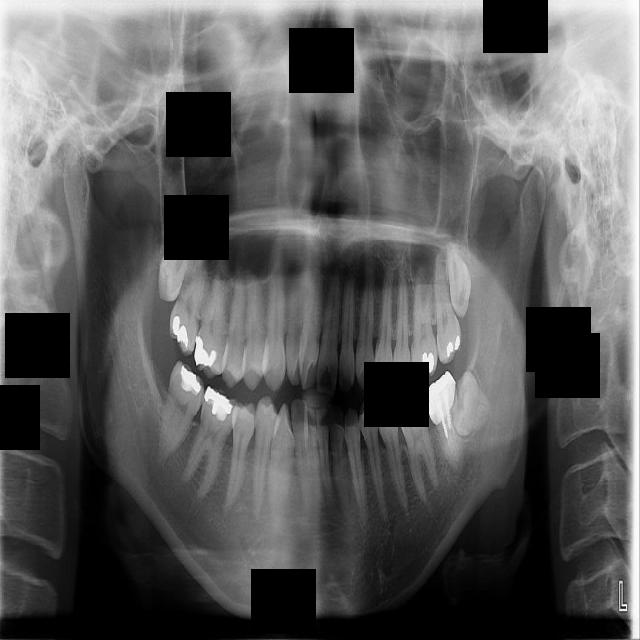3M ESPE Implant: (148, 229, 200, 305)
52: (159, 357, 218, 419), (155, 296, 211, 359), (190, 385, 244, 446), (189, 326, 233, 381), (422, 370, 461, 426), (394, 391, 433, 439), (406, 332, 442, 383), (435, 312, 463, 365)
73: (584, 543, 594, 562)
BioHorizons Implant: (432, 251, 463, 366)
BioLife Implant: (445, 237, 474, 320)
Biomet 3i Implant: (452, 370, 491, 437)
Blue Sky Bio Implant: (424, 369, 463, 472)
Caries: (165, 240, 210, 357)
Implant: (151, 359, 211, 469)
